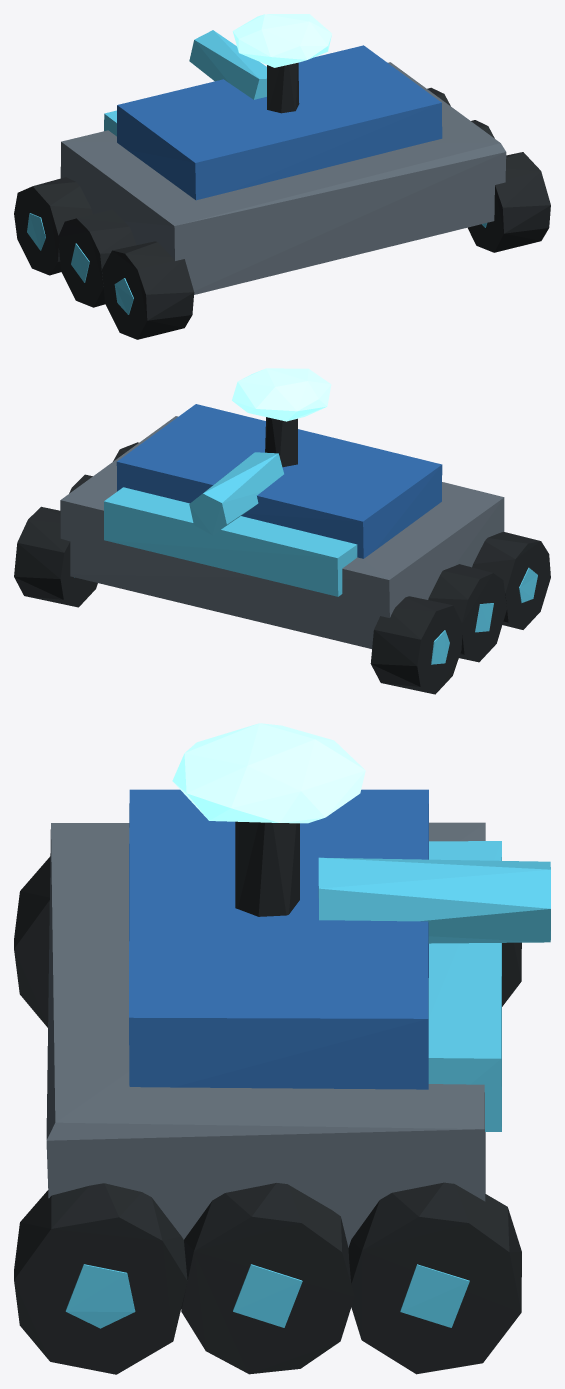
File: SM_Alliance_AL_KestrelScout_LOD3.fbx
3 views of the same model, one above another, from view 1: azimuth 30°, elevation 25°; view 2: azimuth 150°, elevation 25°; view 3: azimuth 270°, elevation 25° (orthographic). The views are drawn at different scales.
Parts seen in each view (by area): view 1: LOD03_SM_Alliance_AL_KestrelScout; view 2: LOD03_SM_Alliance_AL_KestrelScout; view 3: LOD03_SM_Alliance_AL_KestrelScout.
Boxes of the visible parts, bbox=[...] form: LOD03_SM_Alliance_AL_KestrelScout: bbox=[14, 14, 550, 339]; LOD03_SM_Alliance_AL_KestrelScout: bbox=[14, 368, 550, 694]; LOD03_SM_Alliance_AL_KestrelScout: bbox=[14, 723, 550, 1374].
Bounding box in the file's own units: 335 × 202 × 184.
